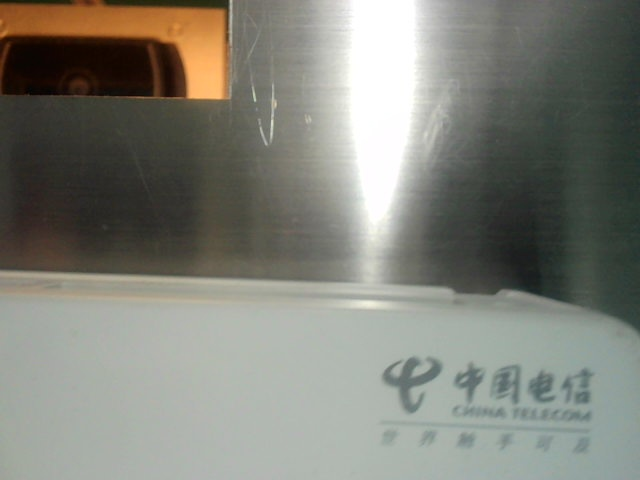AB_ChinaTelecom: (370, 345, 605, 461)
